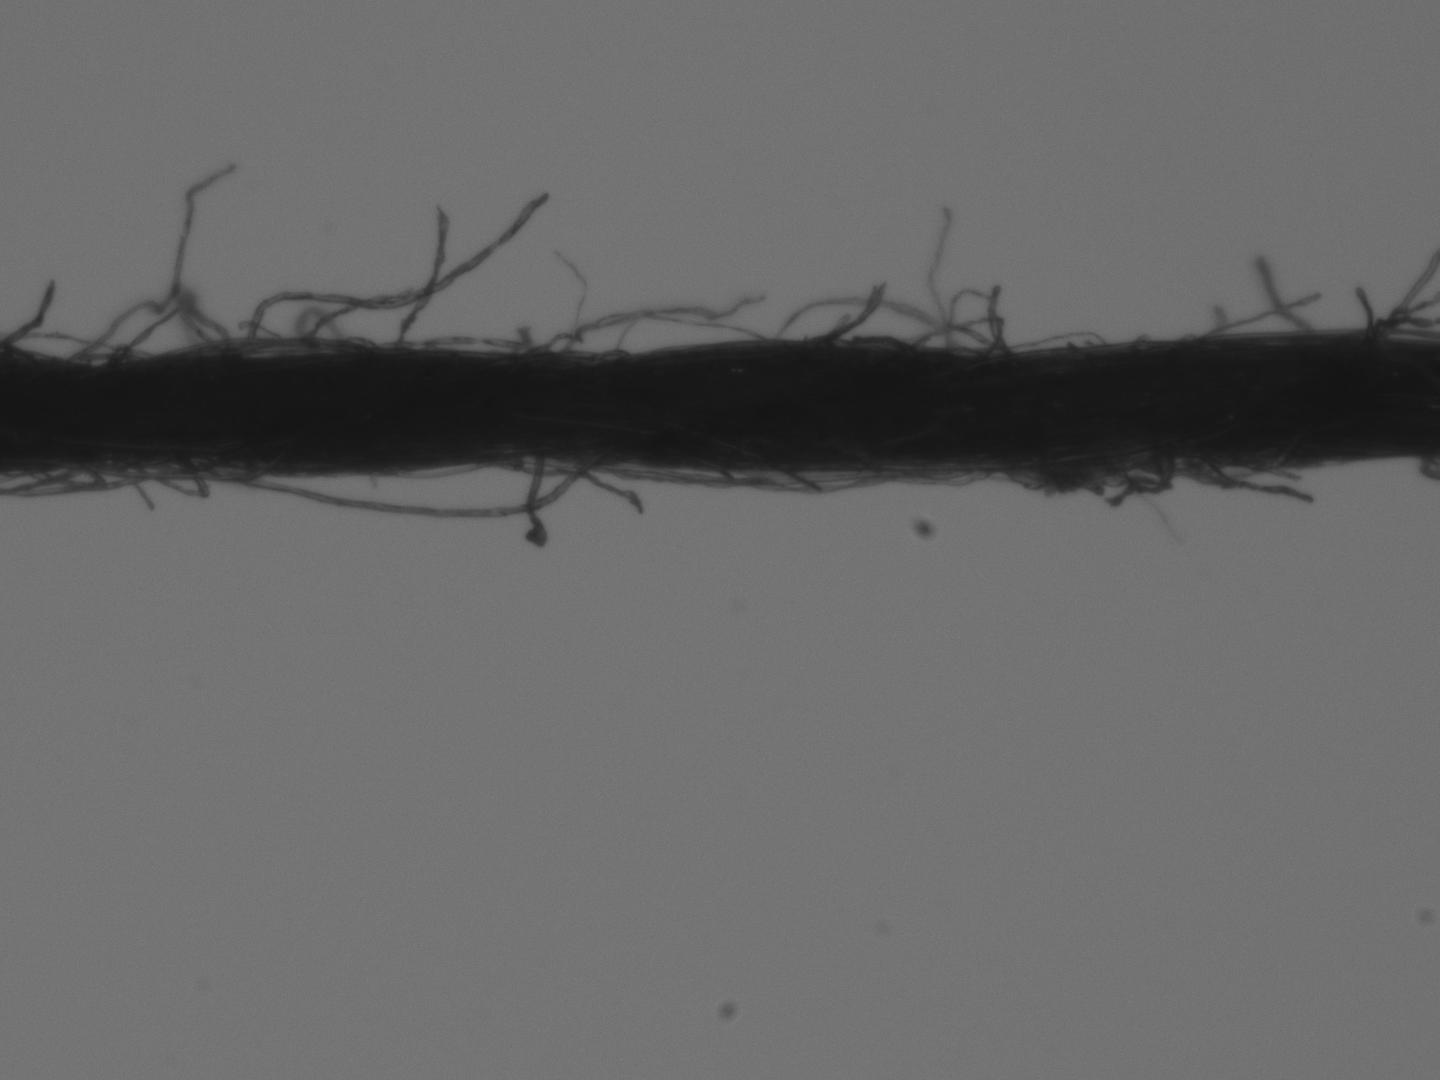loop_fiber: (219, 458, 599, 522), (110, 295, 227, 368), (904, 313, 1005, 355), (128, 455, 205, 503), (997, 462, 1115, 491), (28, 463, 138, 490), (1117, 457, 1169, 495)
protruding_fiber: (243, 193, 547, 338), (390, 202, 447, 344), (1196, 286, 1319, 344), (799, 281, 887, 339), (1, 277, 54, 352)
